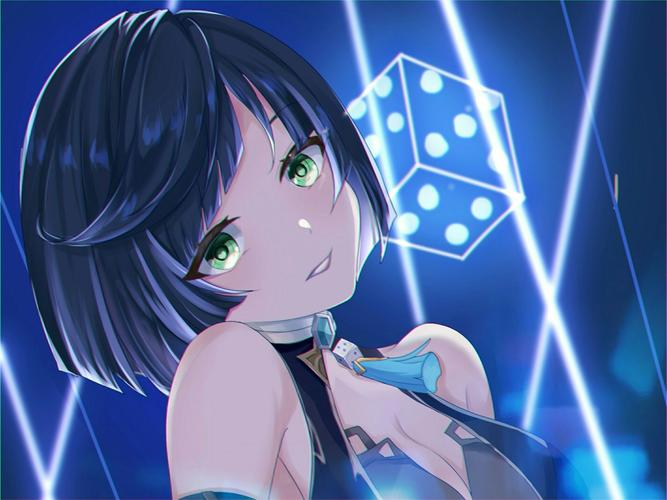夜兰: (15, 4, 508, 500)
